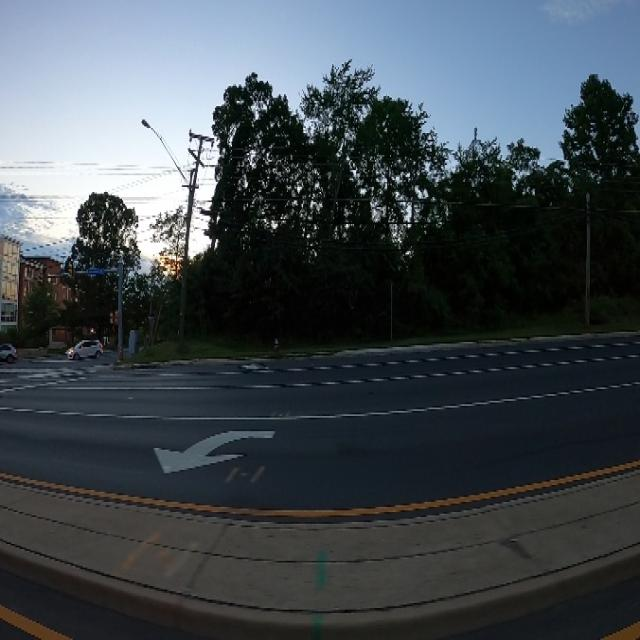cars: (63, 328, 106, 369), (0, 338, 22, 371)
